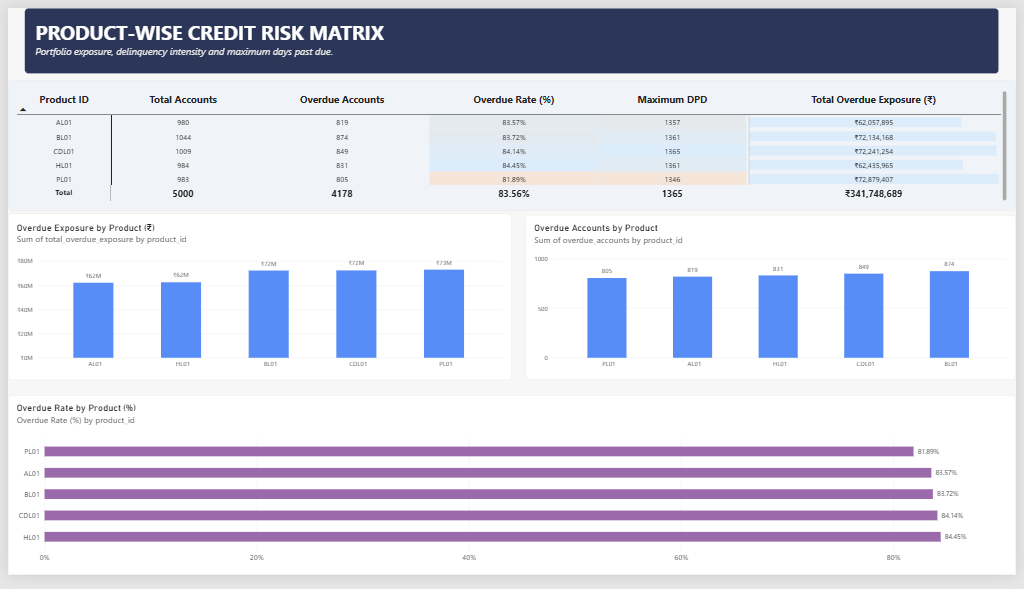

Layout of this report page (visuals, bound fields, positions):
{"tool":"powerbi","page":{"name":"Product Risk Analysis","canvas":[1920,1080],"ordinal":1},"visuals":[{"type":"pivotTable","fields":{"Rows":["product_wise_risk_segmentation.product_id"],"Values":["Sum(product_wise_risk_segmentation.total_accounts)","Sum(product_wise_risk_segmentation.overdue_accounts)","product_wise_risk_segmentation.Overdue Rate (%)","Max(product_wise_risk_segmentation.maximum_dpd)","Sum(product_wise_risk_segmentation.total_overdue_exposure)"]},"box":[0,137.1,1920,248.6],"z":0},{"type":"textbox","box":[31.2,0,1856.2,125],"z":1000},{"type":"clusteredColumnChart","title":"Overdue Accounts by Product","fields":{"Category":["product_wise_risk_segmentation.product_id"],"Y":["Sum(product_wise_risk_segmentation.overdue_accounts)"]},"box":[985.7,394.3,934.3,314.3],"z":2000},{"type":"clusteredColumnChart","title":"Overdue Exposure by Product (₹)","fields":{"Category":["product_wise_risk_segmentation.product_id"],"Y":["Sum(product_wise_risk_segmentation.total_overdue_exposure)"]},"box":[0,391.4,960,317.1],"z":3000},{"type":"clusteredBarChart","title":"Overdue Rate by Product (%)","fields":{"Category":["product_wise_risk_segmentation.product_id"],"Y":["product_wise_risk_segmentation.Overdue Rate (%)"]},"box":[0,738.3,1920,341.7],"z":4000}]}

Visuals, with their boxes in screenshot pixels (x1, y1, x2, y2), scaled from the page's 1920x1080 canvas onto the 1024x589 screenshot:
pivotTable - product_wise_risk_segmentation.product_id x Sum(product_wise_risk_segmentation.total_accounts): pyautogui.locateOnScreen(0, 75, 1023, 210)
textbox: pyautogui.locateOnScreen(17, 0, 1007, 68)
"Overdue Accounts by Product" clusteredColumnChart: pyautogui.locateOnScreen(526, 215, 1023, 386)
"Overdue Exposure by Product (₹)" clusteredColumnChart: pyautogui.locateOnScreen(0, 213, 512, 386)
"Overdue Rate by Product (%)" clusteredBarChart: pyautogui.locateOnScreen(0, 403, 1023, 588)
